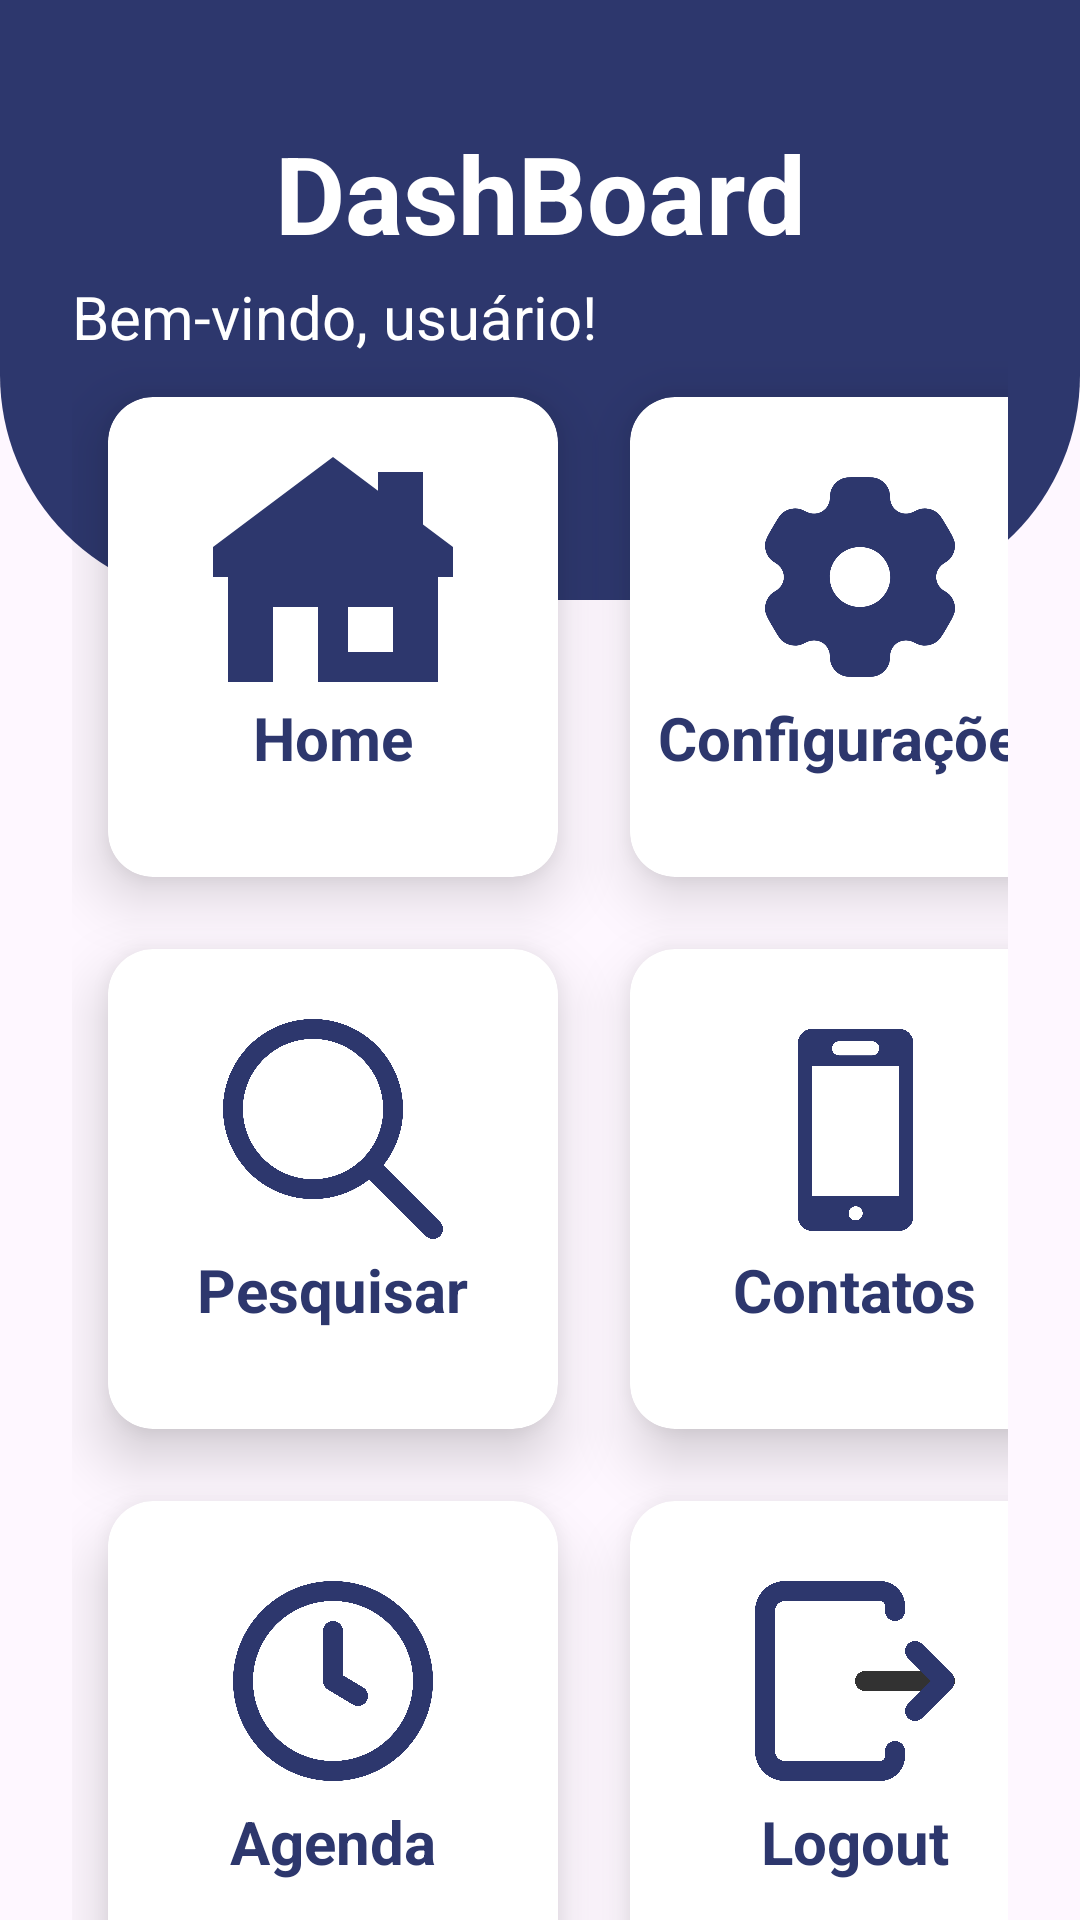

Where to tap for icons on this 1080x1920 app screen, as [x,y]:
celular: [855,1130]
lupa: [333,1129]
relogio: [333,1681]
